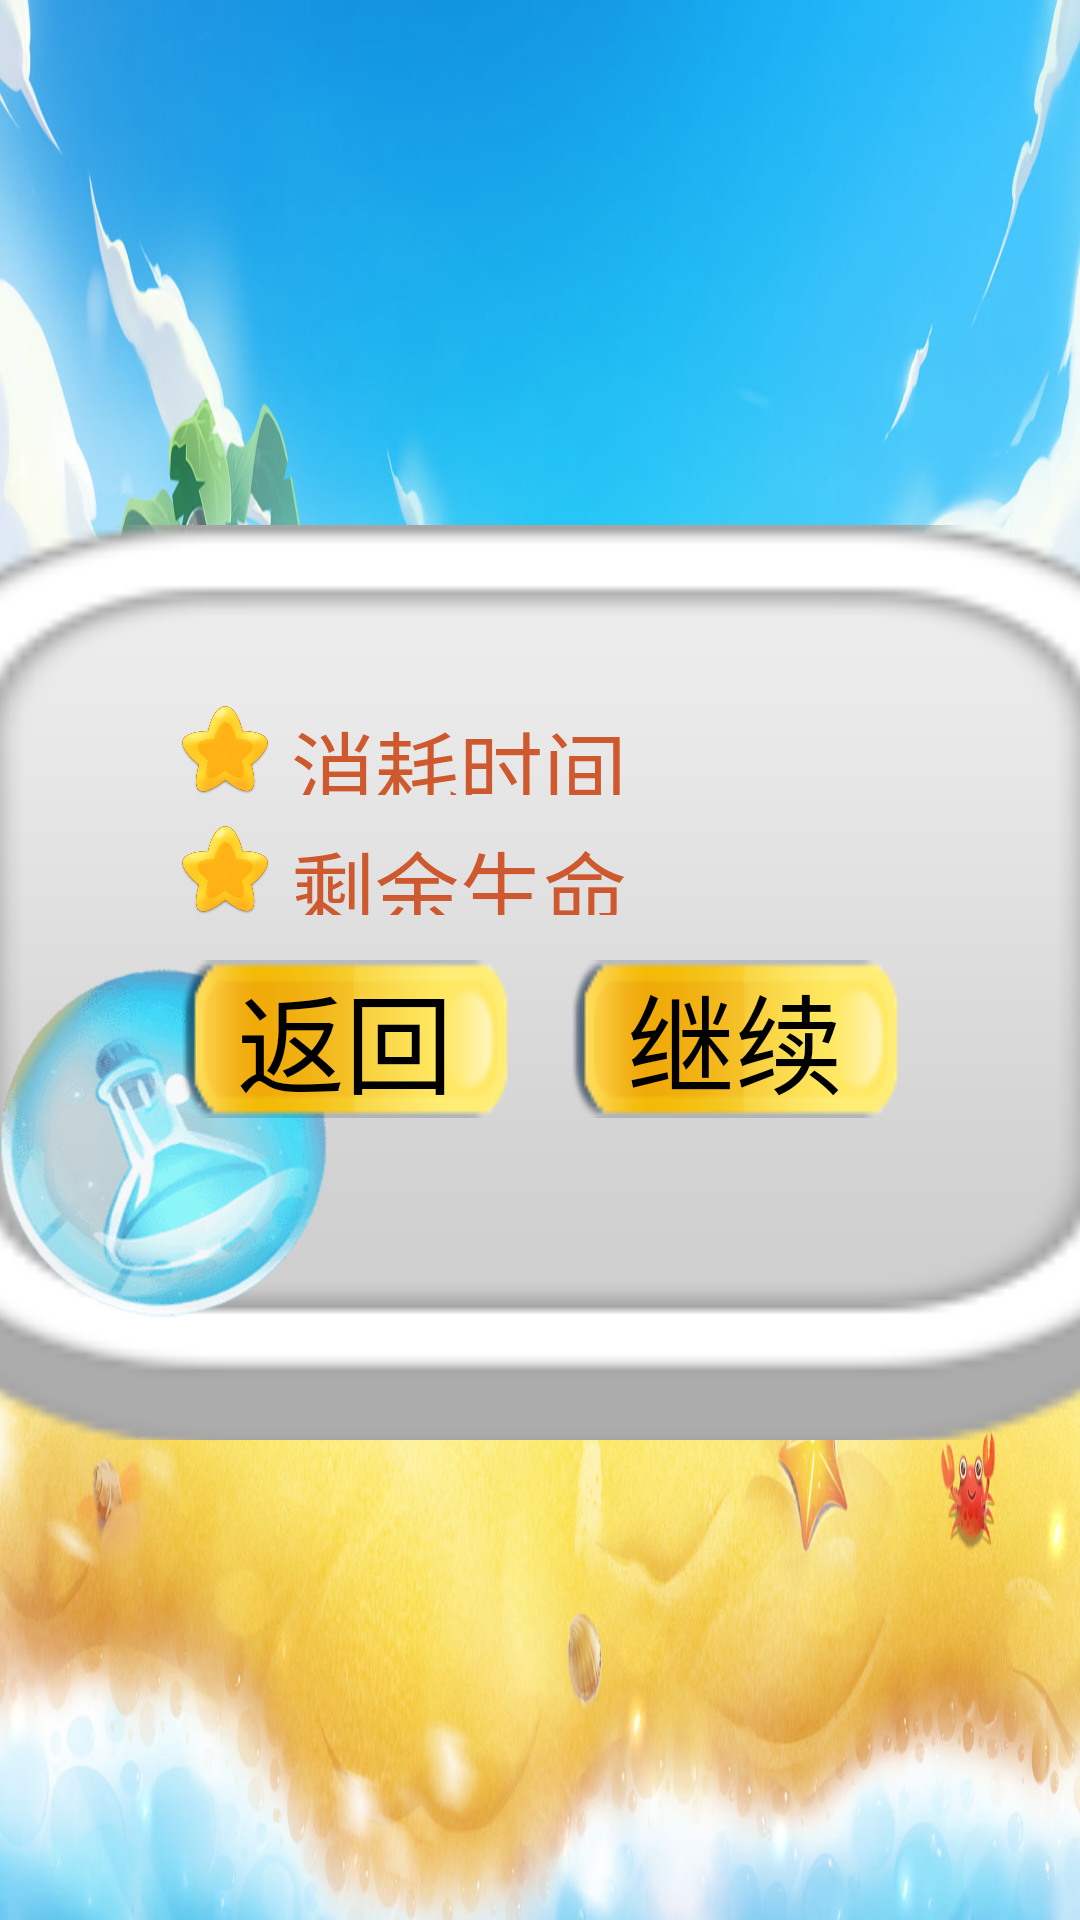

Where to tap for icons on this 1080w x 1920h app screen, as (x=x, y=y):
star: (x=225, y=749), (x=225, y=869)
